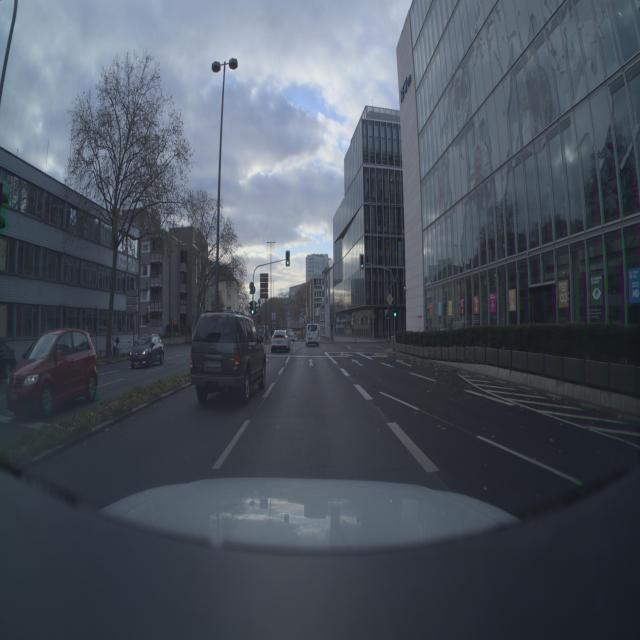green_light: (355, 254, 367, 273), (284, 250, 292, 270)
